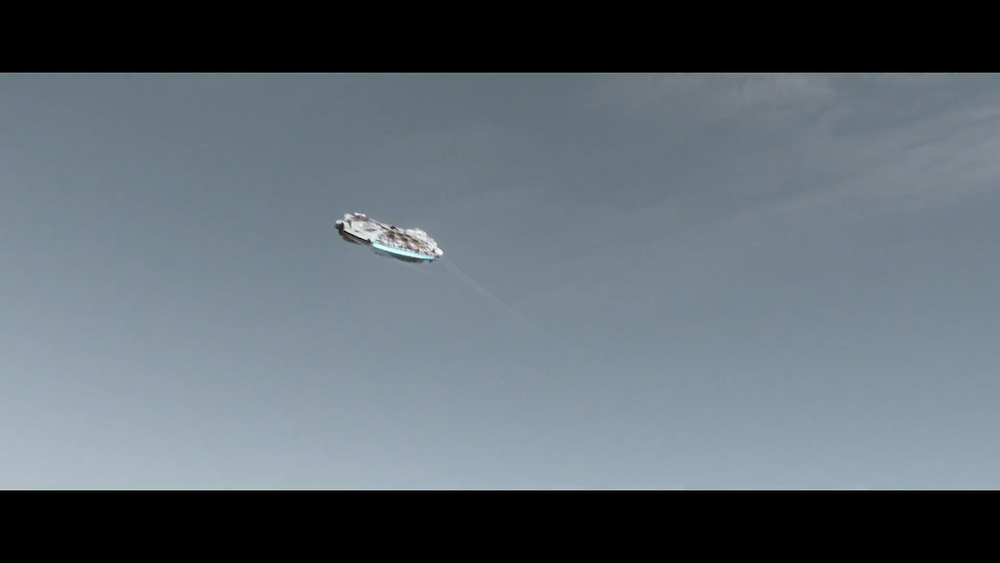Millennium Falcon: (333, 211, 446, 267)
